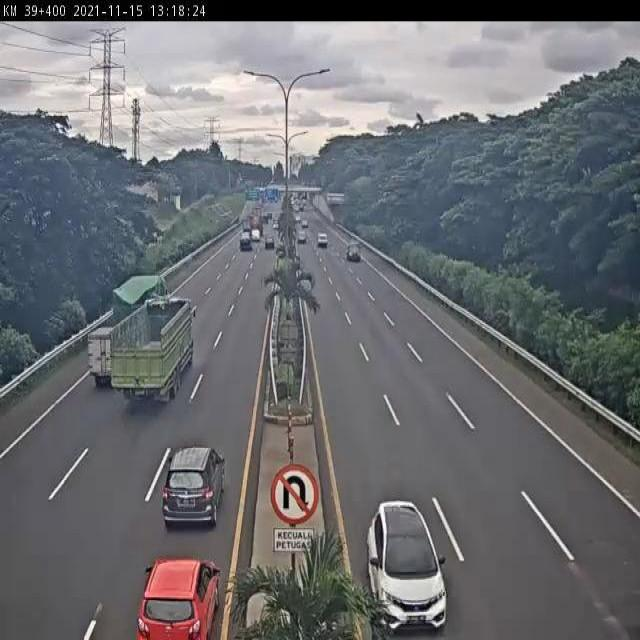car: (367, 500, 448, 631), (141, 562, 217, 640), (160, 445, 224, 528)
truck-l-: (112, 296, 197, 403), (113, 272, 172, 325)
truck-s-: (90, 326, 123, 386)
